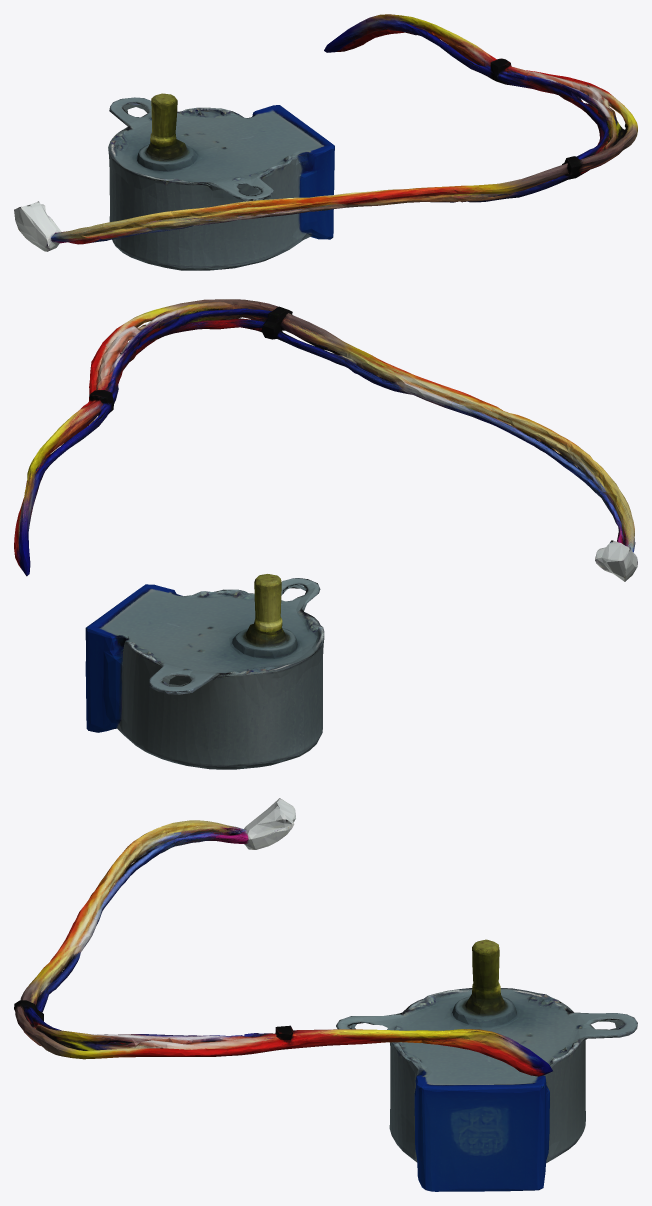
The model's file is motor.glb.
The picture shows the model from 3 angles, top to bottom: view 1: azimuth 30°, elevation 25°; view 2: azimuth 150°, elevation 25°; view 3: azimuth 270°, elevation 25°; orthographic projection. The views are drawn at different scales.
Visible parts, largest first — view 1: world; view 2: world; view 3: world.
Part boxes in pixels (left/top/right/bottom): world: left=14, top=14, right=637, bottom=270; world: left=14, top=299, right=637, bottom=769; world: left=14, top=798, right=637, bottom=1191.
Bounding box in the file's own units: 1 × 0.3697 × 0.928.
Materials: 1 (1 with a texture image).
